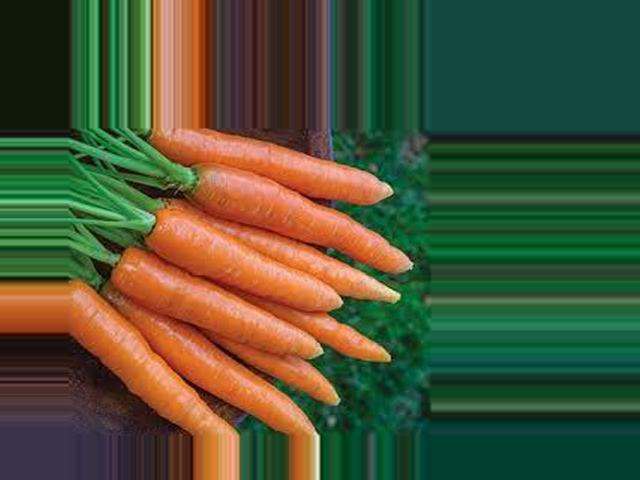carrot: (72, 265, 264, 437)
